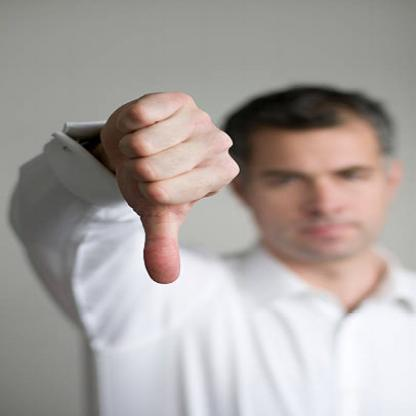thumb_down: (100, 85, 247, 286)
